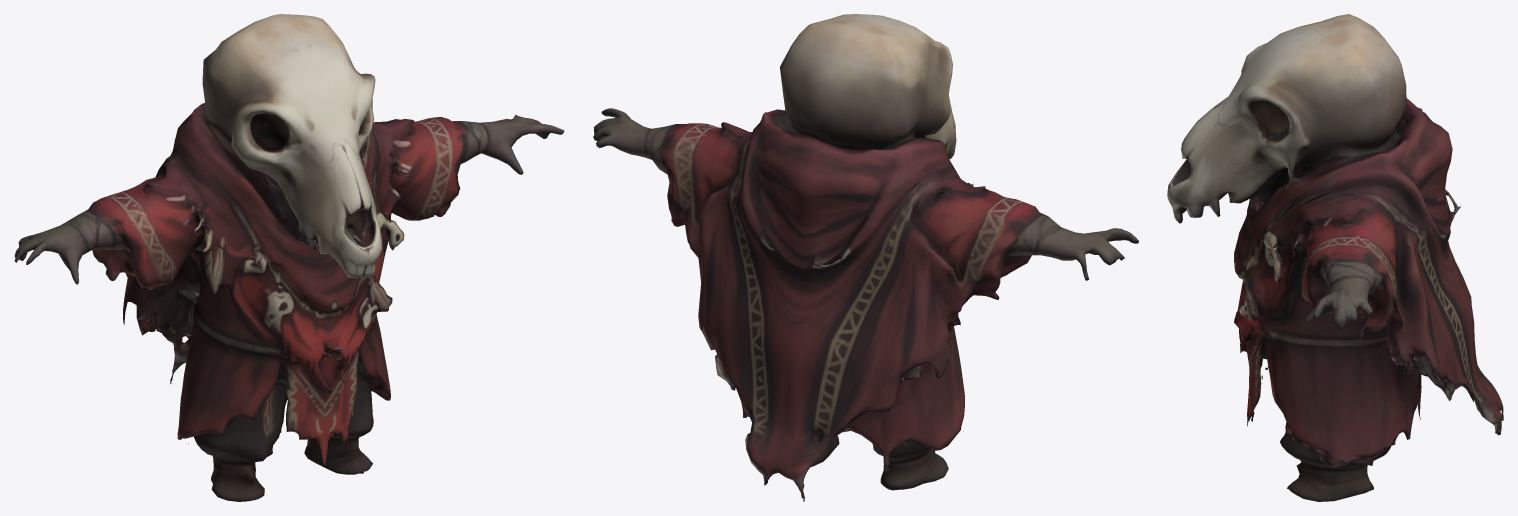
File: T_Pose.fbx
3 renders of one model, left to right at view 1: azimuth 30°, elevation 25°; view 2: azimuth 150°, elevation 25°; view 3: azimuth 270°, elevation 25°, orthographic.
Visible parts, largest first — view 1: Mesh_0; view 2: Mesh_0; view 3: Mesh_0.
Part boxes in pixels (x1,y1,x2,y2): Mesh_0: (14, 14, 564, 501); Mesh_0: (593, 14, 1138, 501); Mesh_0: (1167, 14, 1503, 501).
Size of the model in its own units: 200 by 160 by 110.
Materials: 1 (1 with a texture image).
